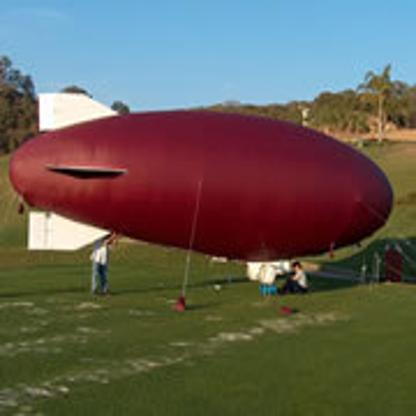Airship: (6, 91, 399, 266)
